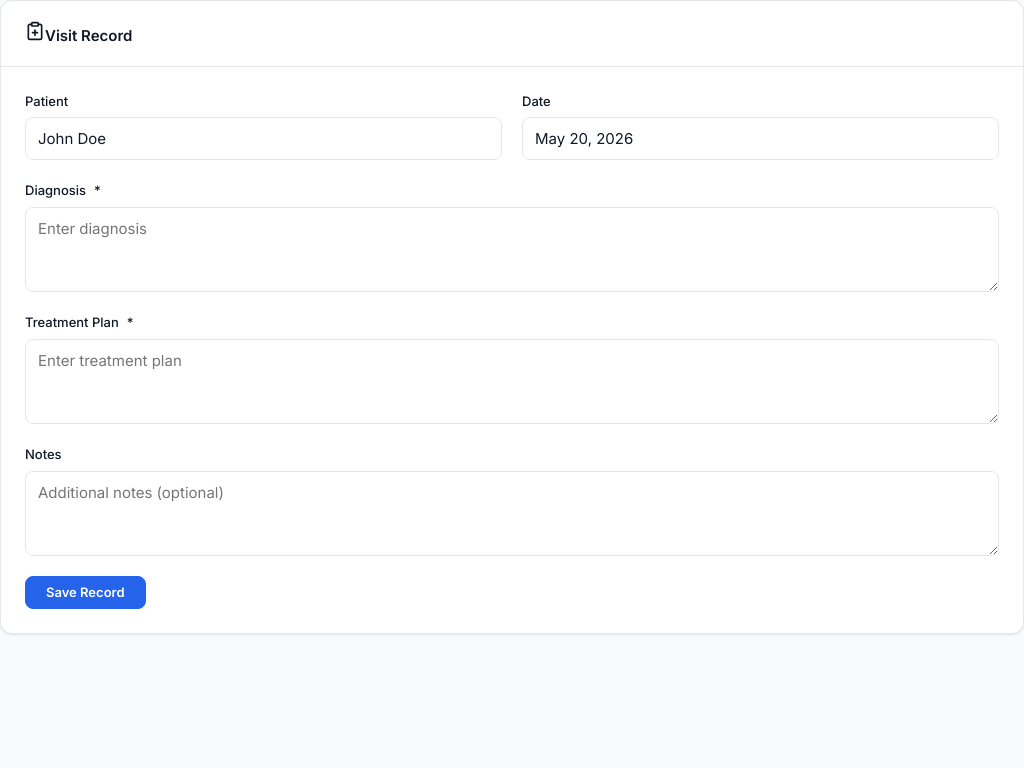
Test: MedicalRecordForm › submits a POST request on form submit
This screenshot has width=1024, height=768.
Type "Hypertension" into the text box labelled "Diagnosis *" at (512, 250), box [25, 207, 999, 292]
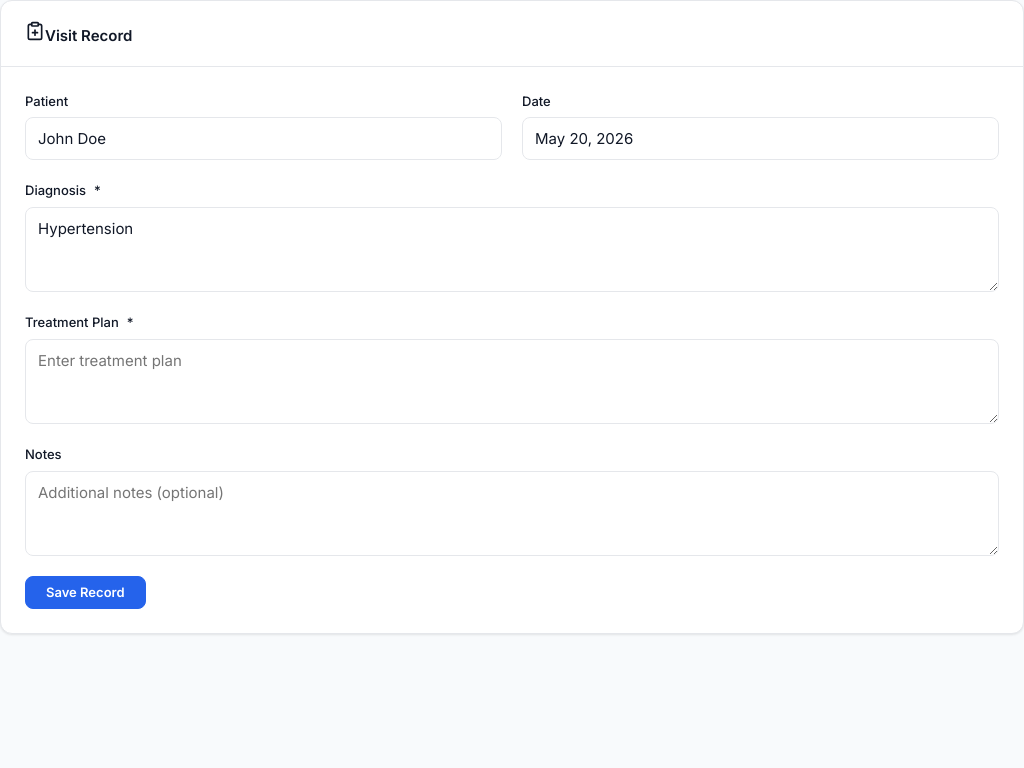
Type "Lifestyle changes and medication" into the text box labelled "Treatment Plan *" at (512, 381), box [25, 339, 999, 424]
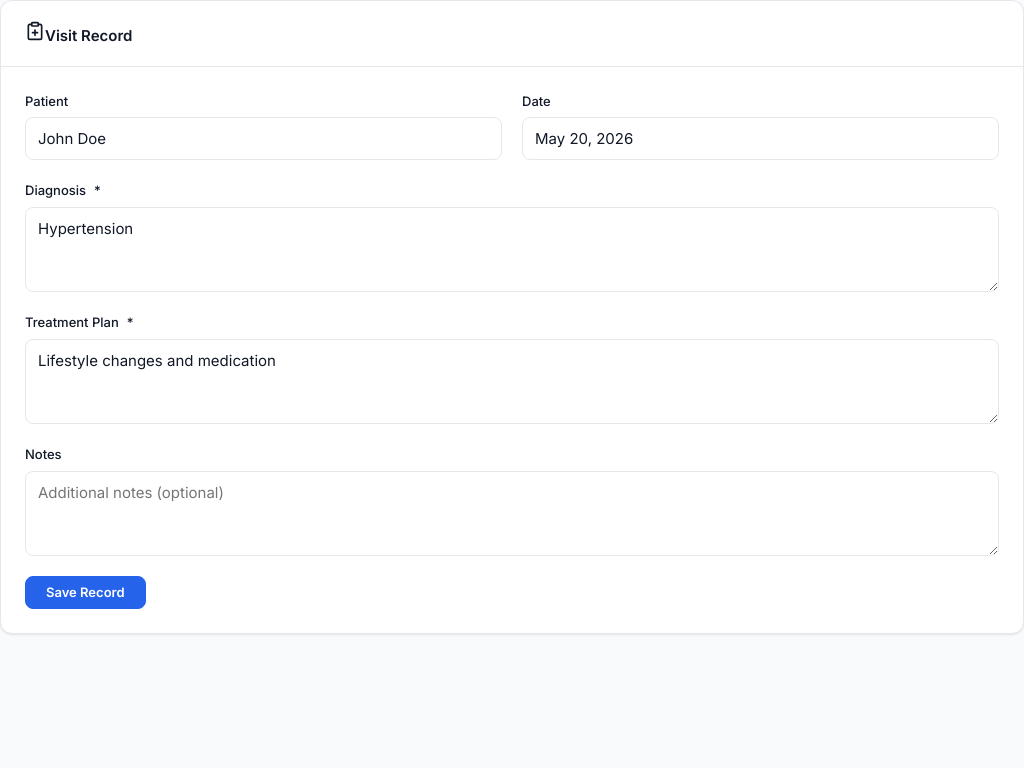
Type "Follow up in 4 weeks" into the text box labelled "Notes" at (512, 513), box [25, 471, 999, 556]
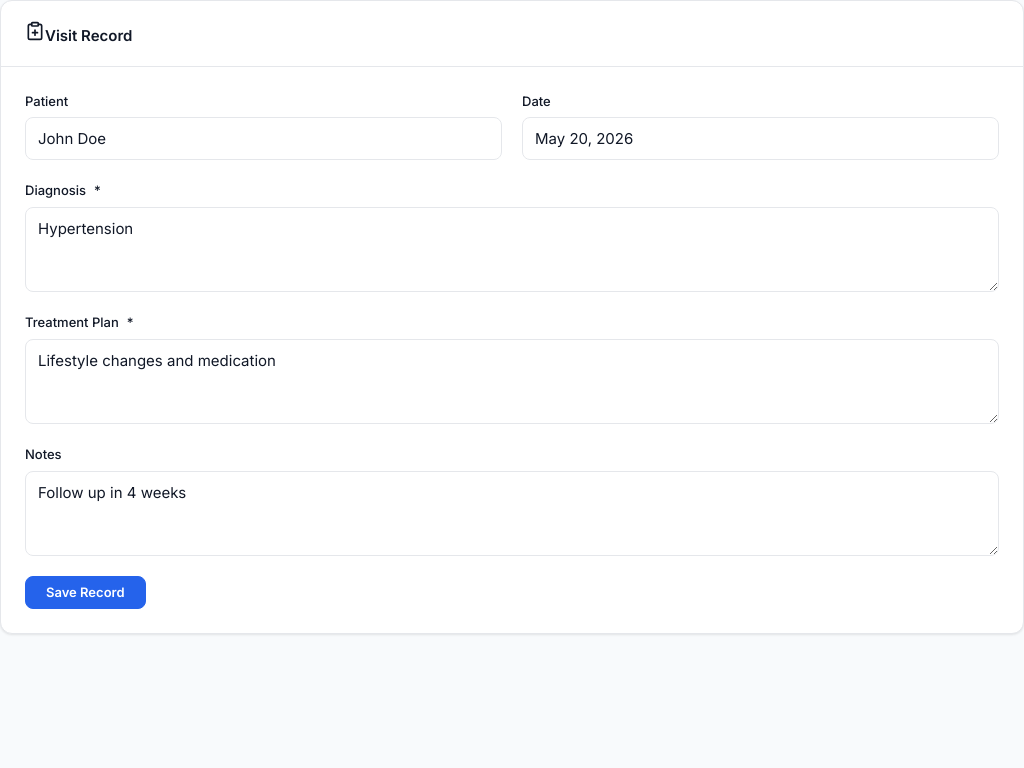
Click the button "Save Record" at (85, 592), box [25, 576, 146, 609]
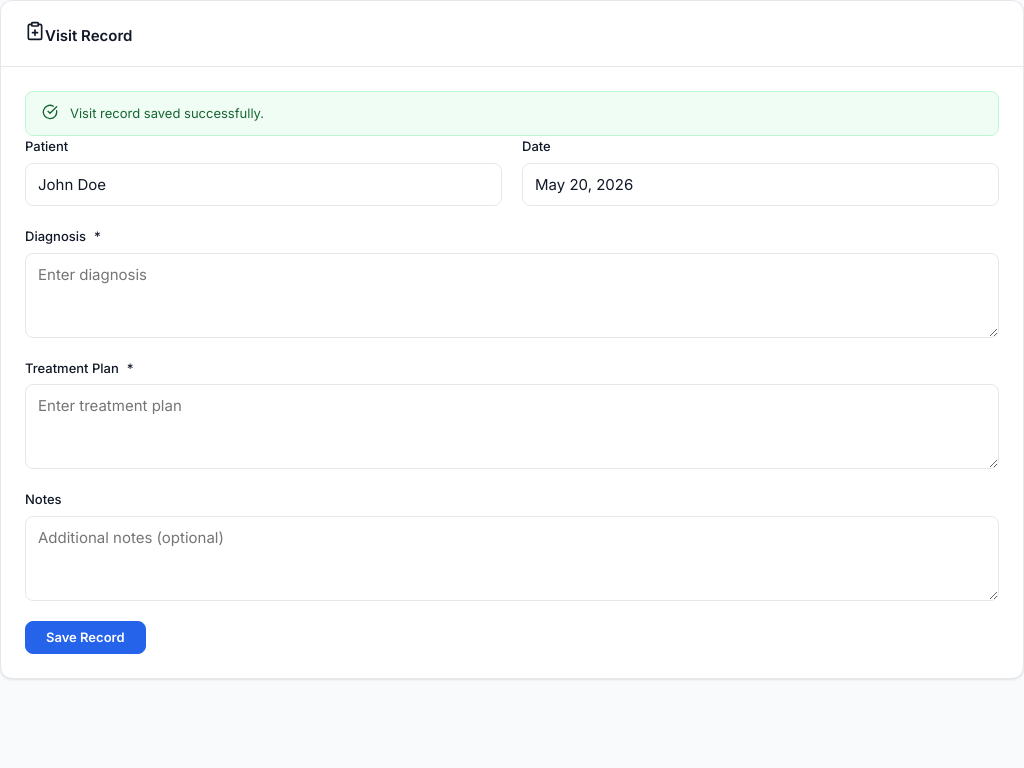
Check: the text "Visit record saved successfully." is shown, box [25, 90, 999, 136]
